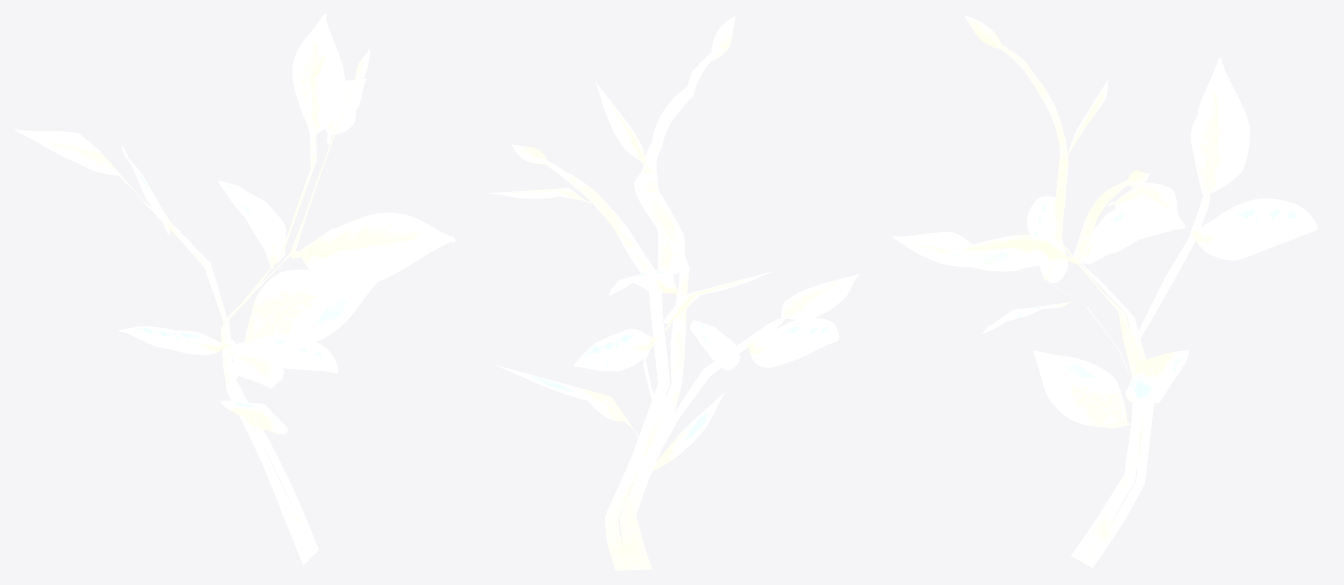
The picture shows the model from 3 angles, left to right: view 1: azimuth 30°, elevation 25°; view 2: azimuth 150°, elevation 25°; view 3: azimuth 270°, elevation 25°; orthographic projection. The views are drawn at different scales.
Parts seen in each view (by area): view 1: SM_Potato_Plant_01v2_LOD0; view 2: SM_Potato_Plant_01v2_LOD0; view 3: SM_Potato_Plant_01v2_LOD0.
Boxes of the visible parts, left/top/right/bottom form: SM_Potato_Plant_01v2_LOD0: left=14, top=14, right=455, bottom=565; SM_Potato_Plant_01v2_LOD0: left=486, top=16, right=860, bottom=570; SM_Potato_Plant_01v2_LOD0: left=892, top=15, right=1317, bottom=567.
Size of the model in its own units: 0.3866 by 0.6061 by 0.4562.
1 material, 1 textured.
